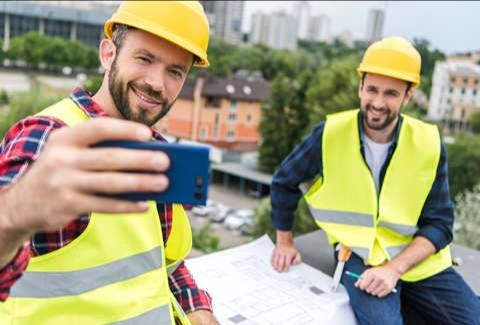helmet: (100, 1, 216, 68), (354, 36, 425, 87)
wear: (0, 122, 212, 325), (318, 116, 449, 271)
